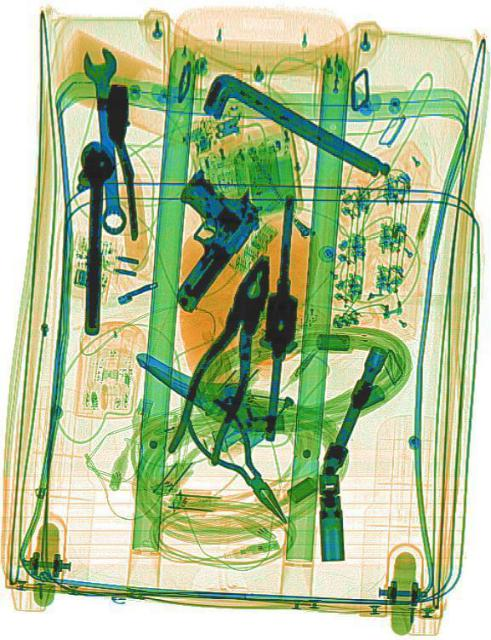Gun: (132, 148, 267, 316)
Pliers: (161, 242, 292, 474), (180, 386, 301, 538)
Wrench: (80, 46, 131, 234)
